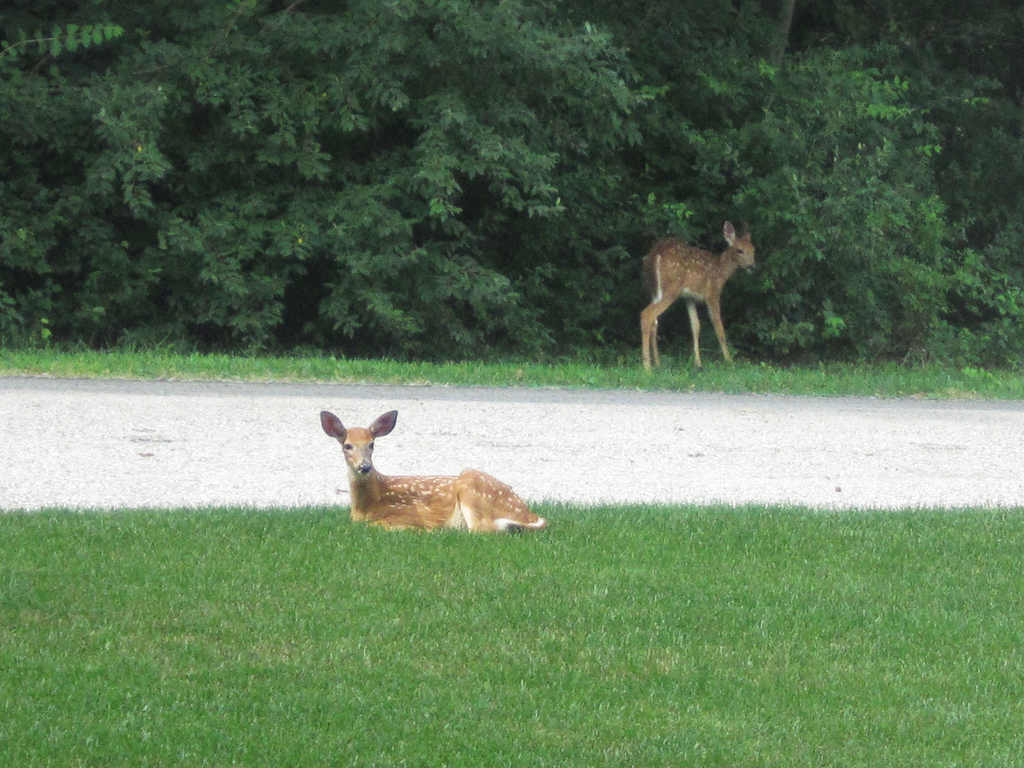Tree: (0, 0, 1023, 372), (308, 0, 508, 360)
